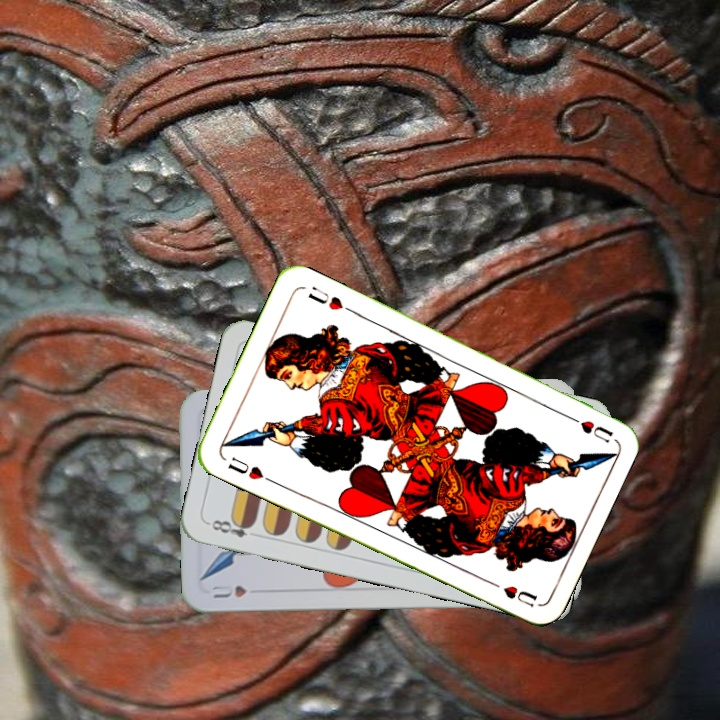E8: (204, 514, 262, 541)
HU: (560, 410, 616, 445), (223, 453, 266, 483), (208, 581, 249, 600)
